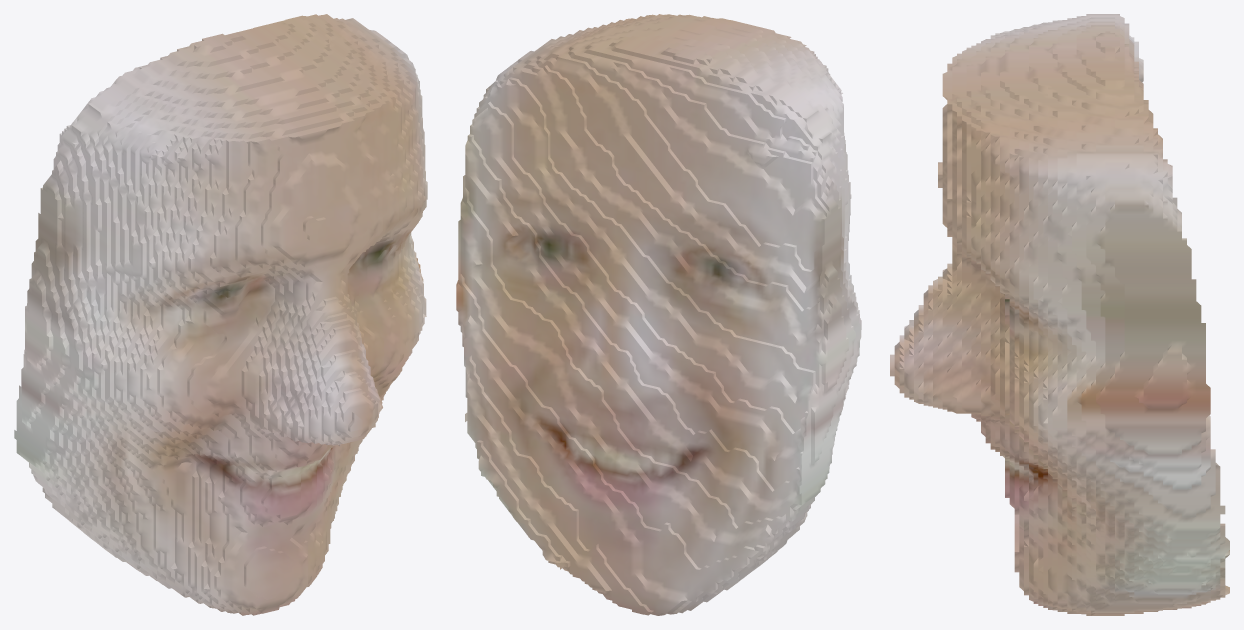
Rendered from zuckface.glb.
3 renders of one model, left to right at view 1: azimuth 30°, elevation 25°; view 2: azimuth 150°, elevation 25°; view 3: azimuth 270°, elevation 25°, orthographic. The views are drawn at different scales.
Visible parts, largest first — view 1: Object_2; view 2: Object_2; view 3: Object_2.
Boxes of the visible parts, x1=… form: Object_2: x1=14, y1=14, x2=427, y2=615; Object_2: x1=456, y1=14, x2=861, y2=615; Object_2: x1=890, y1=14, x2=1229, y2=615.
Size of the model in its own units: 88 by 128 by 71.
